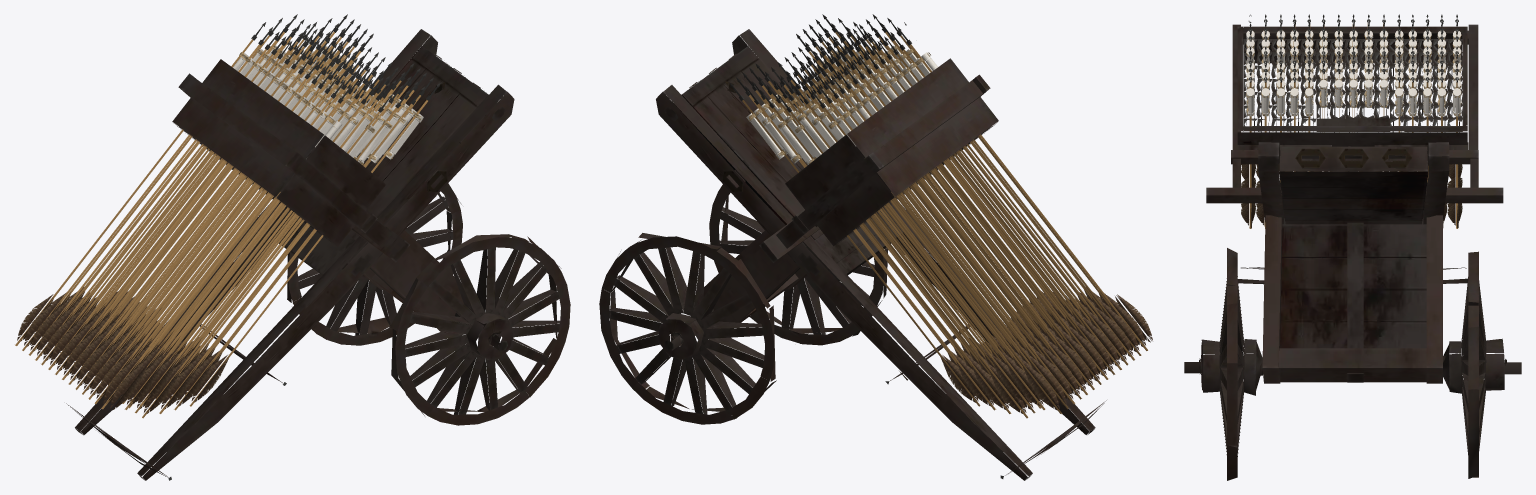
File: hwacha.glb
3 renders of one model, left to right at view 1: azimuth 30°, elevation 25°; view 2: azimuth 150°, elevation 25°; view 3: azimuth 270°, elevation 25°, orthographic. The views are drawn at different scales.
Parts seen in each view (by area): view 1: Object_9, Object_5, Object_6, Object_4, Object_7, Object_8; view 2: Object_9, Object_5, Object_6, Object_7, Object_4, Object_8; view 3: Object_9, Object_8, Object_4, Object_7, Object_6, Object_5.
Boxes of the visible parts, x1,y1,x2,y2 form: Object_9: (66,29,570,480); Object_5: (15,18,375,409); Object_6: (60,26,403,418); Object_4: (67,14,390,413); Object_7: (96,18,425,413); Object_8: (110,14,440,409); Object_9: (599,29,1106,480); Object_5: (794,18,1147,413); Object_6: (777,27,1085,418); Object_7: (745,18,1072,413); Object_4: (779,14,1152,406); Object_8: (729,14,1152,406); Object_9: (1184,24,1521,480); Object_8: (1241,14,1462,228); Object_4: (1241,30,1462,187); Object_7: (1246,56,1461,209); Object_6: (1241,23,1462,187); Object_5: (1246,14,1461,167).
Bounding box in the file's own units: 2.26 × 1.69 × 1.31.
Materials: 2 (2 with a texture image).
